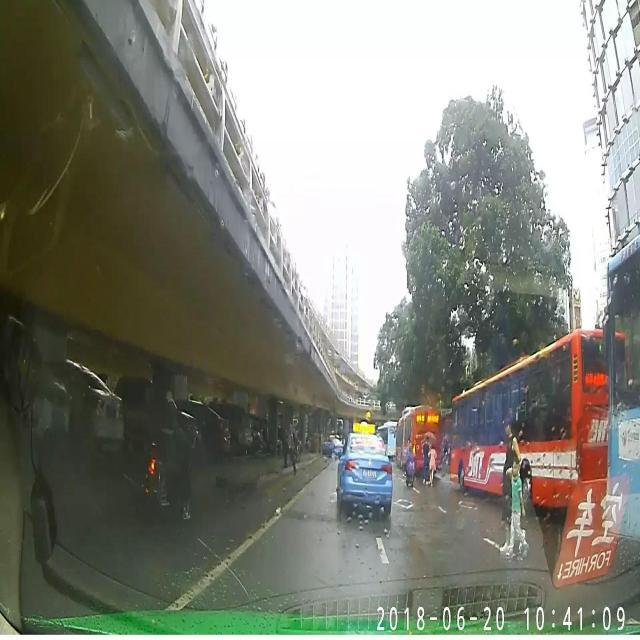car: (334, 422, 392, 515), (319, 433, 342, 458)
